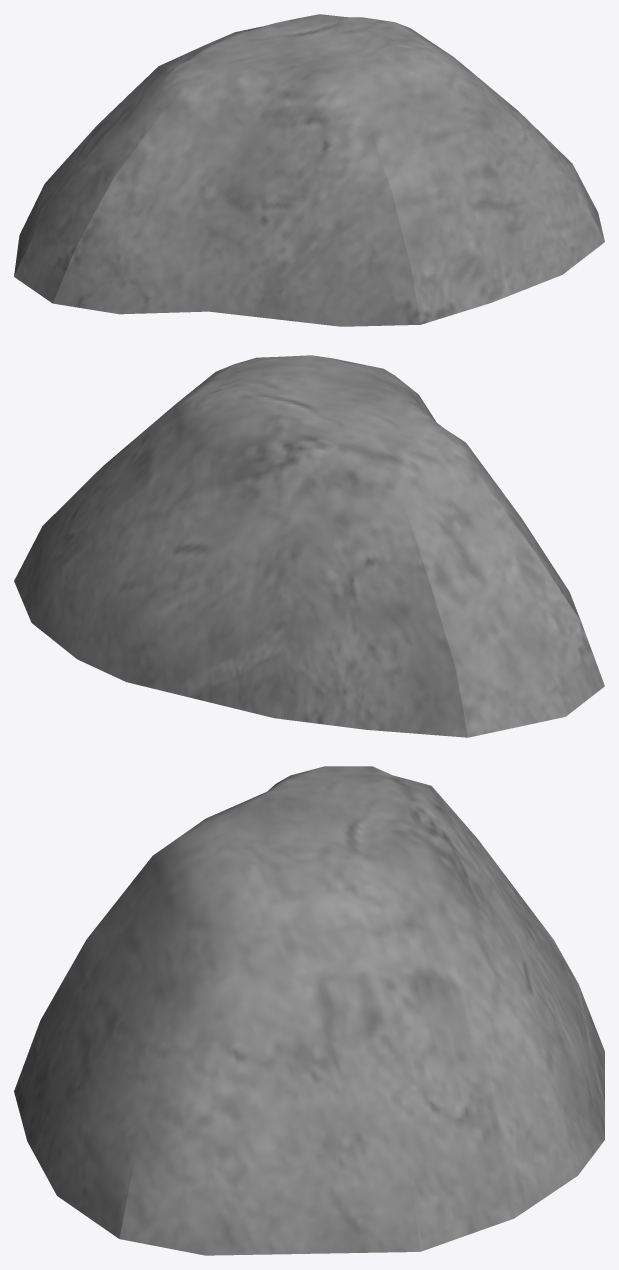
Rendered from lvl1_sea_rock_7.fbx.
3 renders of one model, top to bottom at view 1: azimuth 30°, elevation 25°; view 2: azimuth 150°, elevation 25°; view 3: azimuth 270°, elevation 25°, orthographic. The views are drawn at different scales.
Parts seen in each view (by area): view 1: lvl1_sea_rock_7; view 2: lvl1_sea_rock_7; view 3: lvl1_sea_rock_7.
Boxes of the visible parts, x1,y1,x2,y2 form: lvl1_sea_rock_7: (14, 14, 604, 326); lvl1_sea_rock_7: (14, 355, 604, 737); lvl1_sea_rock_7: (14, 766, 604, 1255).
Bounding box in the file's own units: 11237 × 4228 × 8412.
